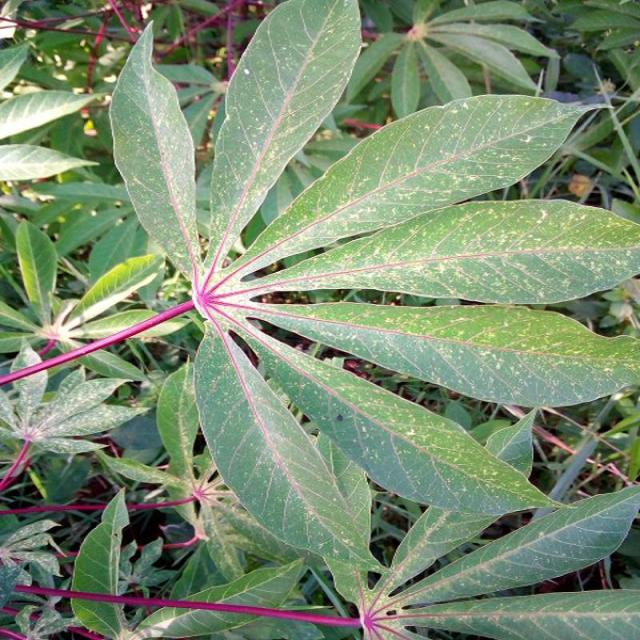cassava leaf: (5, 1, 638, 632), (192, 318, 385, 606), (204, 0, 362, 274), (107, 18, 200, 283)
